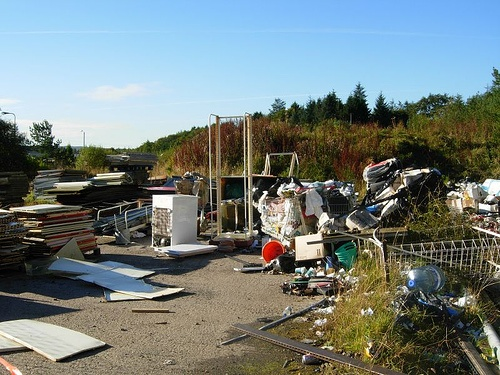rubble: (242, 167, 499, 272), (1, 147, 226, 255)
